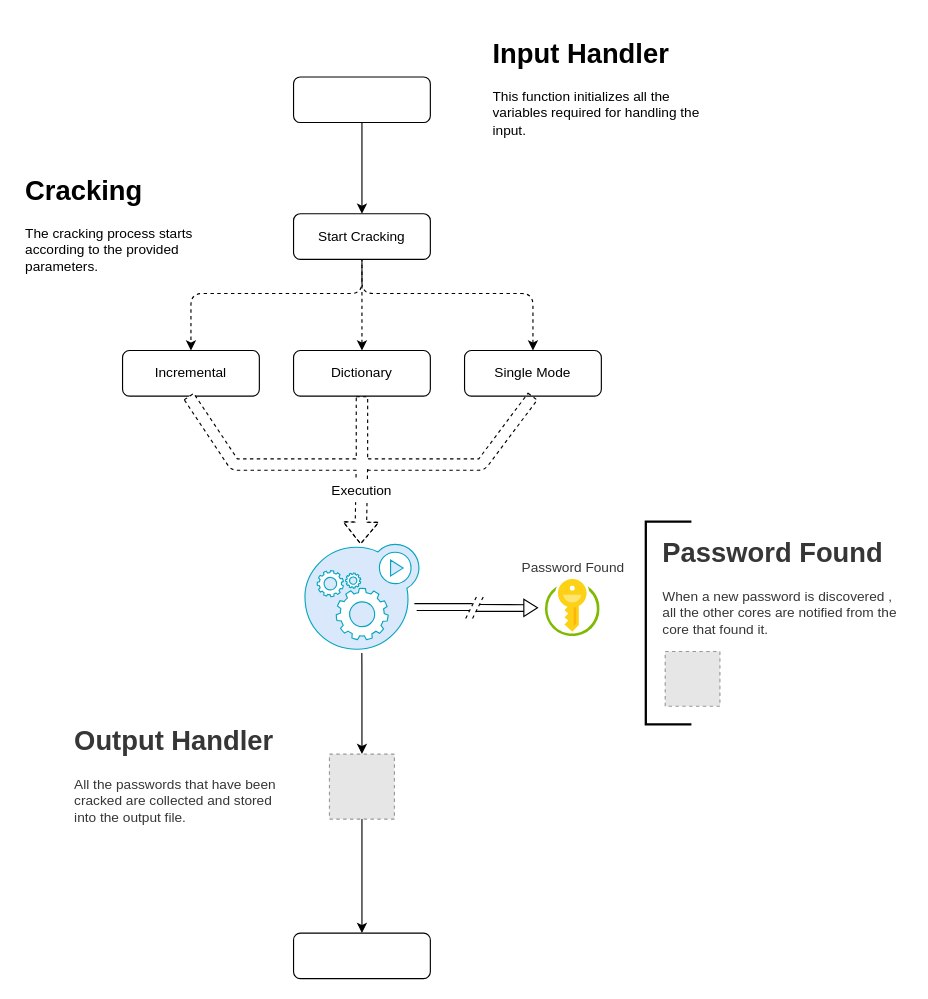
Some shapes in this 928 by 999 pixel diagram are drawn without their labels. Grey dashed boxes stand in for pictures. The centre of each missing label's shape, as x and y in pixels:
Finish: (x=361, y=955)
Input handler: (x=361, y=99)
